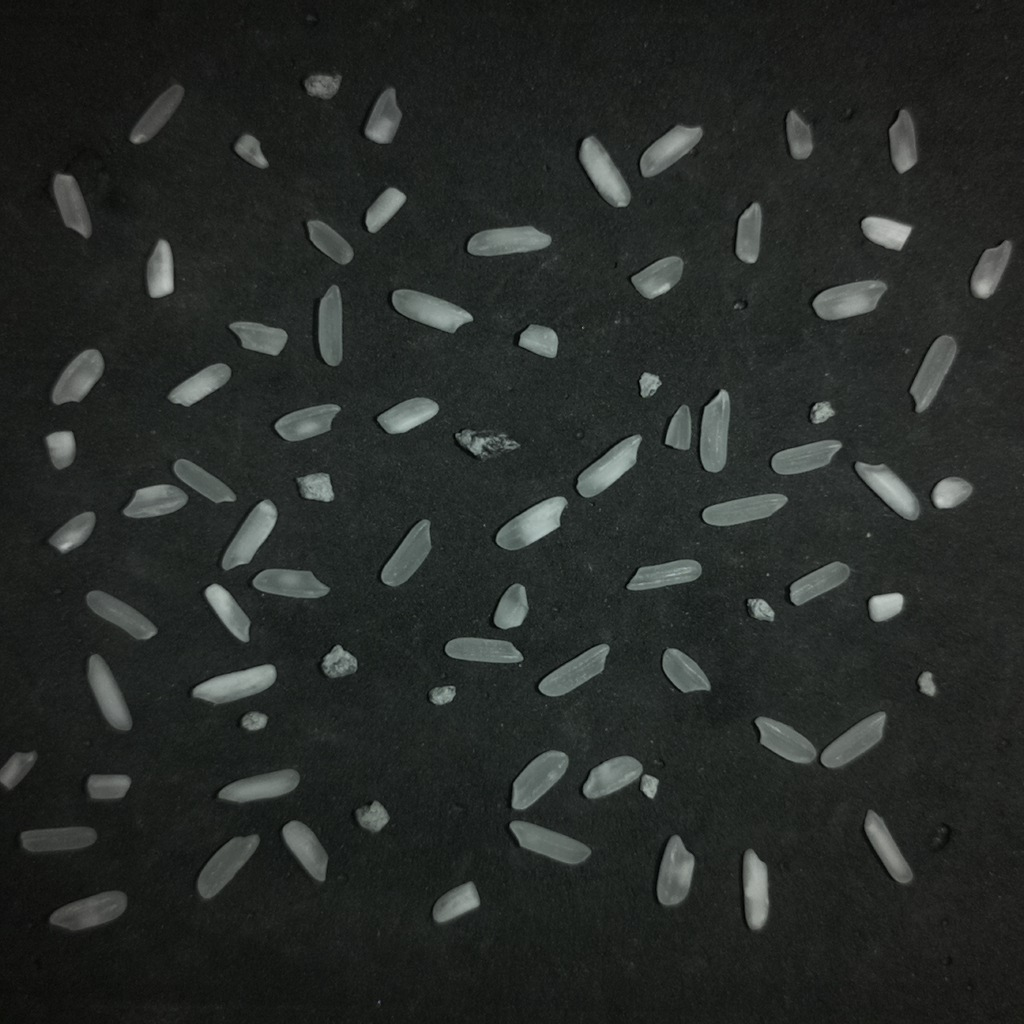broken: (51, 349, 104, 404), (281, 820, 327, 881), (656, 835, 694, 906), (789, 561, 849, 605), (582, 755, 642, 798), (274, 403, 339, 441), (970, 240, 1011, 298), (122, 484, 187, 518), (364, 87, 401, 144), (661, 649, 710, 692), (306, 220, 353, 264), (432, 881, 479, 923), (48, 511, 95, 553), (229, 322, 286, 355), (888, 109, 917, 173), (735, 202, 762, 263), (0, 751, 37, 790), (785, 109, 813, 160), (664, 404, 691, 450), (85, 773, 131, 800), (233, 133, 268, 168), (429, 685, 454, 704), (641, 774, 657, 798)
chalky: (576, 435, 641, 497), (221, 499, 277, 569), (495, 496, 567, 550), (854, 462, 919, 520), (578, 136, 630, 207), (391, 289, 472, 332), (191, 664, 276, 704), (167, 363, 230, 406), (204, 584, 248, 640), (376, 397, 438, 434), (742, 849, 768, 930), (364, 187, 406, 232), (861, 216, 912, 250), (146, 239, 174, 298), (517, 324, 558, 358), (931, 477, 972, 508), (45, 430, 76, 469), (868, 593, 905, 623)
foreign: (456, 429, 517, 458), (494, 583, 527, 628), (321, 645, 357, 678), (354, 800, 389, 833), (296, 473, 334, 502), (304, 73, 341, 99), (746, 598, 773, 621), (239, 711, 268, 731), (639, 372, 661, 398), (810, 401, 834, 424), (918, 671, 934, 695)
whole: (196, 834, 259, 899), (820, 712, 886, 768), (538, 644, 609, 696), (509, 820, 591, 864), (863, 810, 912, 883), (909, 336, 956, 412), (85, 590, 156, 639), (87, 654, 131, 731), (511, 750, 568, 809), (380, 519, 430, 586), (129, 83, 183, 144), (639, 125, 702, 177), (49, 890, 126, 931), (812, 279, 886, 320), (754, 716, 816, 763), (701, 493, 787, 526), (218, 769, 299, 803), (172, 459, 235, 502), (699, 389, 730, 472), (52, 174, 91, 238), (467, 226, 550, 256), (771, 439, 842, 474), (626, 559, 701, 590), (252, 568, 329, 598), (631, 256, 683, 298), (445, 637, 522, 663), (19, 826, 96, 852), (318, 286, 342, 366)
